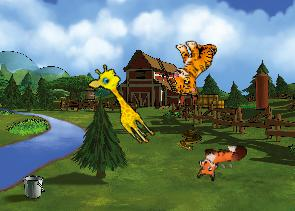fox: (194, 143, 248, 182)
giraffe: (83, 60, 165, 148)
tiger: (171, 39, 217, 94)
